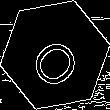O_NE: (23, 22, 87, 88)
